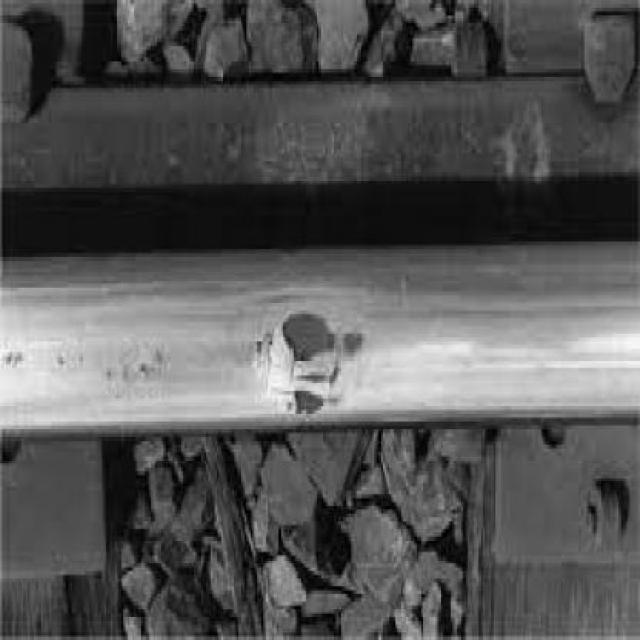defective: (7, 164, 640, 543)
